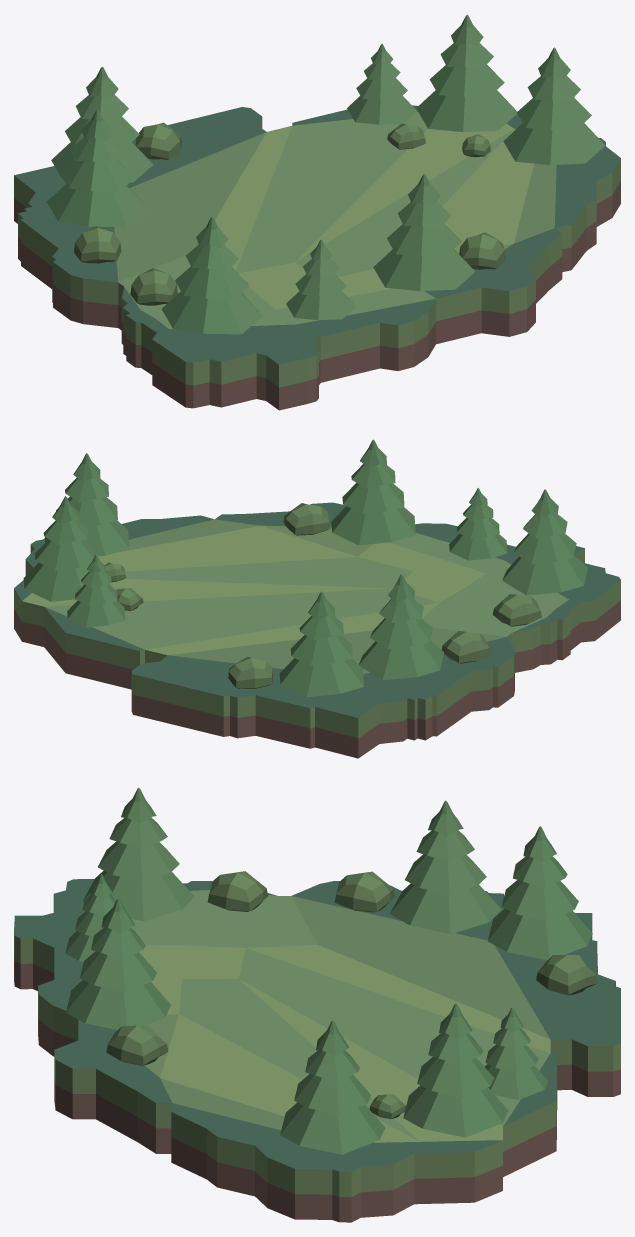
The model's file is chokurdah.gltf.
3 views of the same model, one above another, from view 1: azimuth 30°, elevation 25°; view 2: azimuth 150°, elevation 25°; view 3: azimuth 270°, elevation 25° (orthographic). The views are drawn at different scales.
Parts seen in each view (by area): view 1: чокурдах; view 2: чокурдах; view 3: чокурдах.
Boxes of the visible parts, left/top/right/bottom form: чокурдах: left=14, top=14, right=620, bottom=410; чокурдах: left=14, top=439, right=620, bottom=758; чокурдах: left=14, top=787, right=620, bottom=1222.
Size of the model in its own units: 1.94 by 0.5325 by 1.69.
